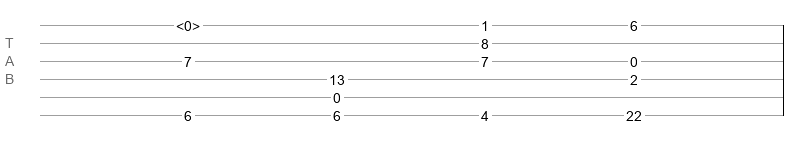0: (333, 90, 341, 100), (630, 54, 638, 64)
1: (481, 18, 489, 28)
13: (329, 72, 345, 82)
2: (630, 72, 638, 82)
22: (626, 108, 642, 118)
4: (481, 108, 489, 118)
6: (184, 108, 192, 118), (333, 108, 341, 118), (630, 18, 638, 28)
7: (184, 54, 192, 64), (481, 54, 489, 64)
8: (481, 36, 489, 46)
harmonic: (176, 18, 200, 28)
